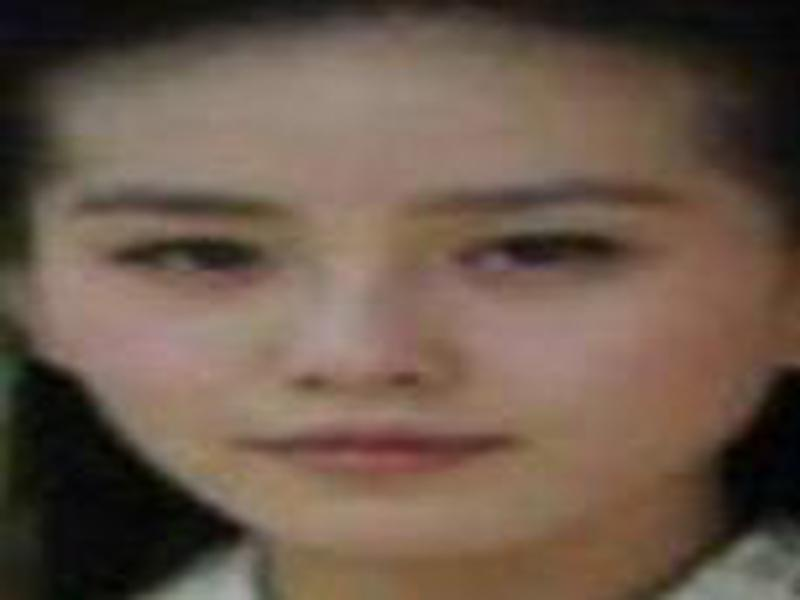without_mask: (40, 93, 719, 561)
